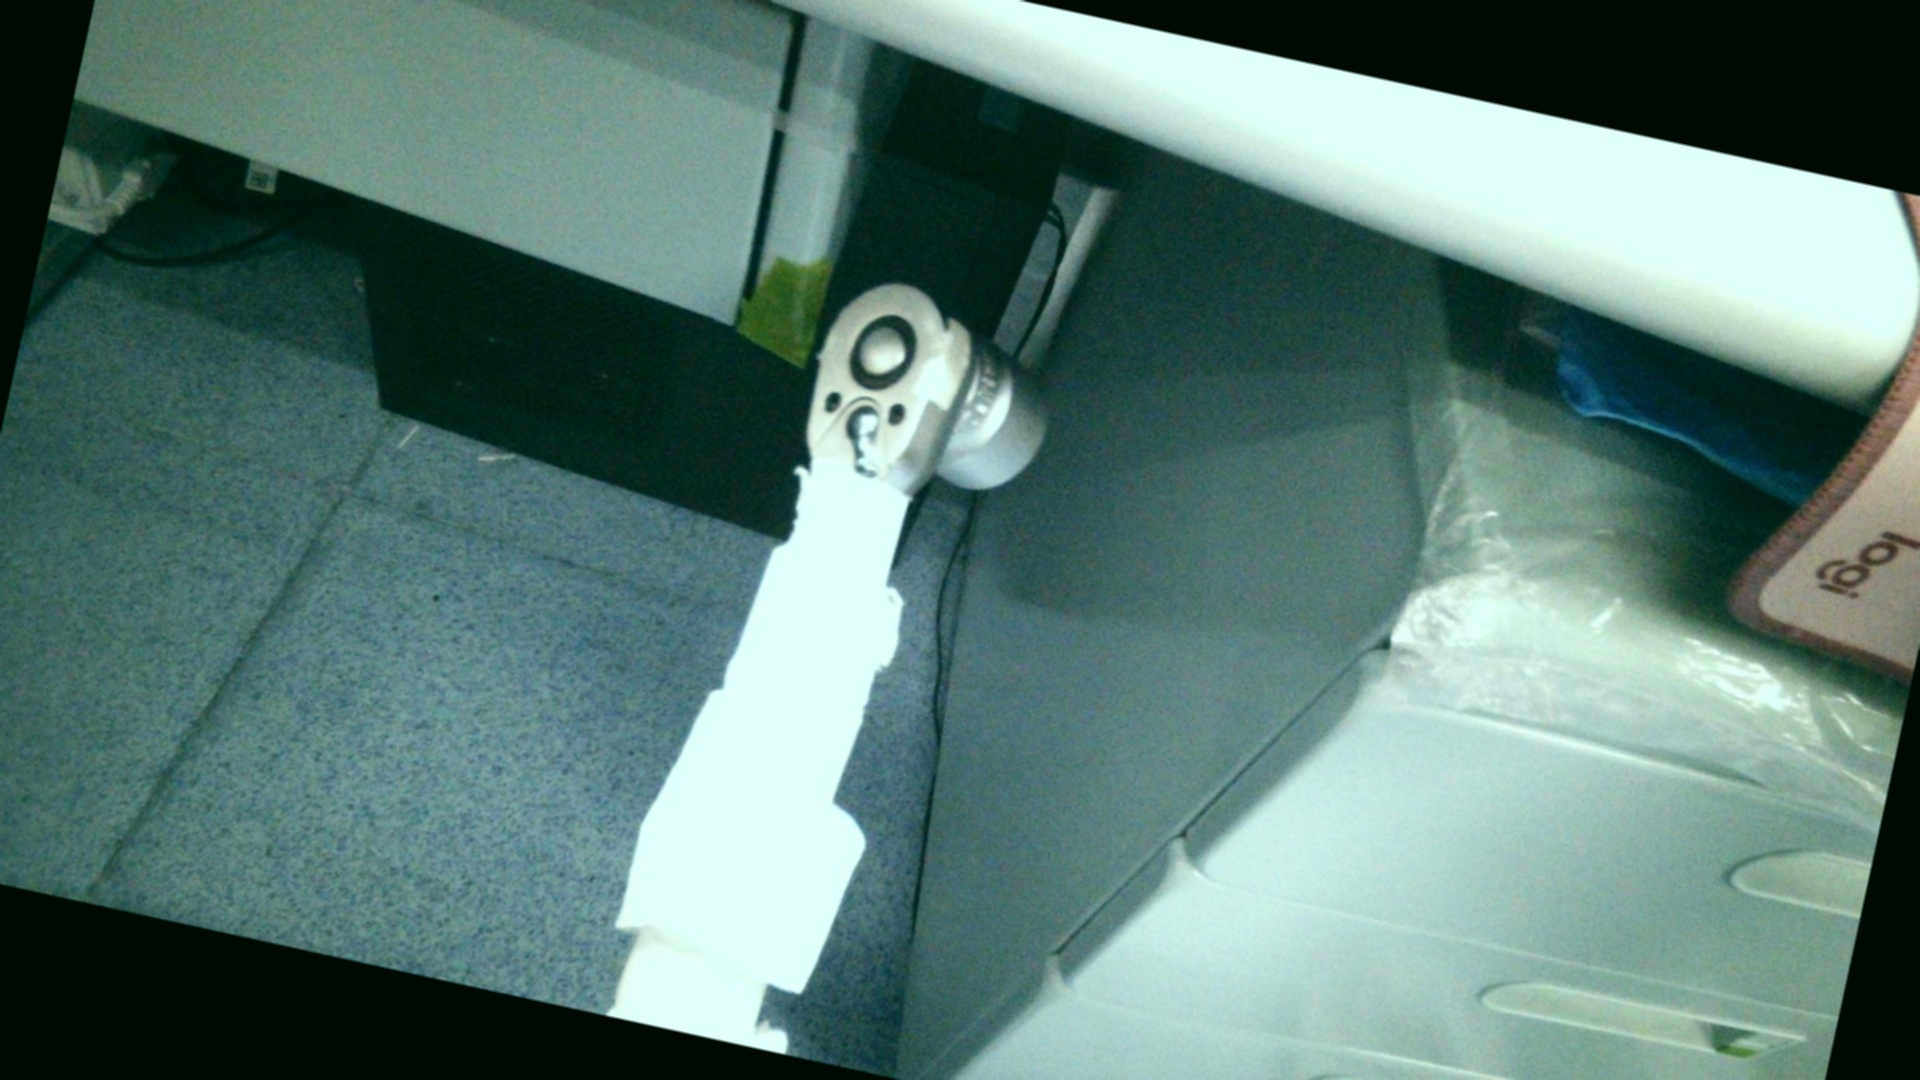wrench: (829, 299, 927, 404)
